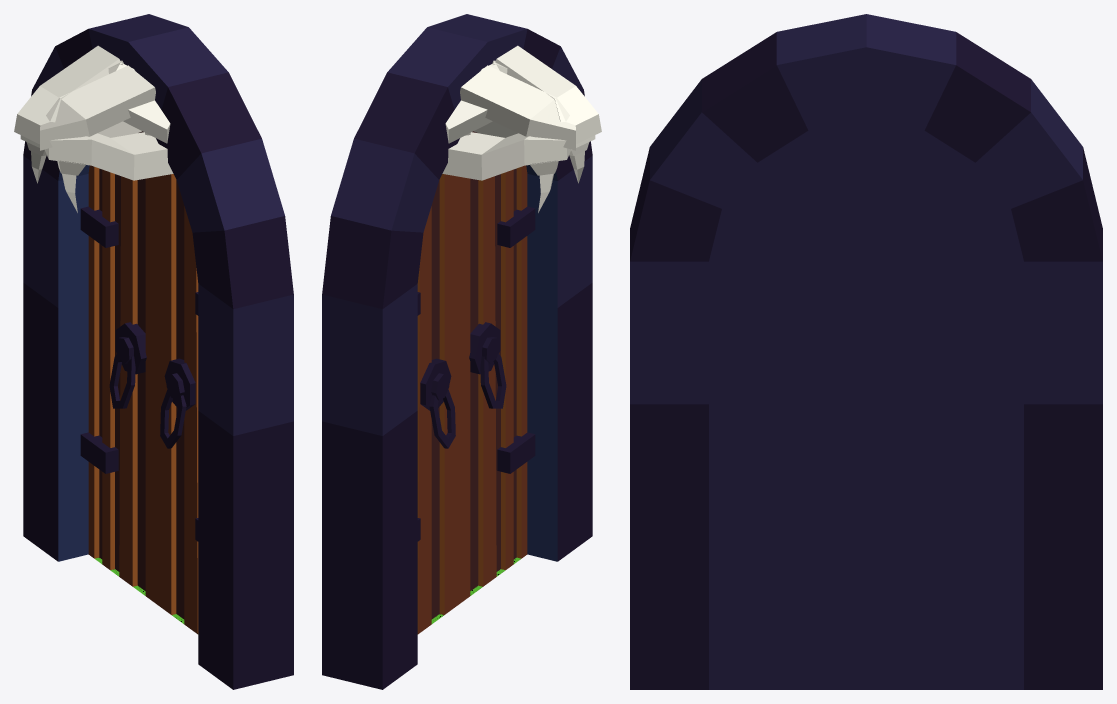
The model's file is Gridmap_Infrastructure.glb.
3 views of the same model, side by side, from view 1: azimuth 30°, elevation 25°; view 2: azimuth 150°, elevation 25°; view 3: azimuth 270°, elevation 25° (orthographic). The views are drawn at different scales.
Parts seen in each view (by area): view 1: Door-col; view 2: Door-col; view 3: Door-col.
Boxes of the visible parts, box(x1,y1,x2,y2) form: Door-col: box(14, 14, 293, 689); Door-col: box(322, 14, 601, 689); Door-col: box(630, 14, 1102, 689).
Bounding box in the file's own units: 1.33 × 4.5 × 3.
Materials: 1 (1 with a texture image).
